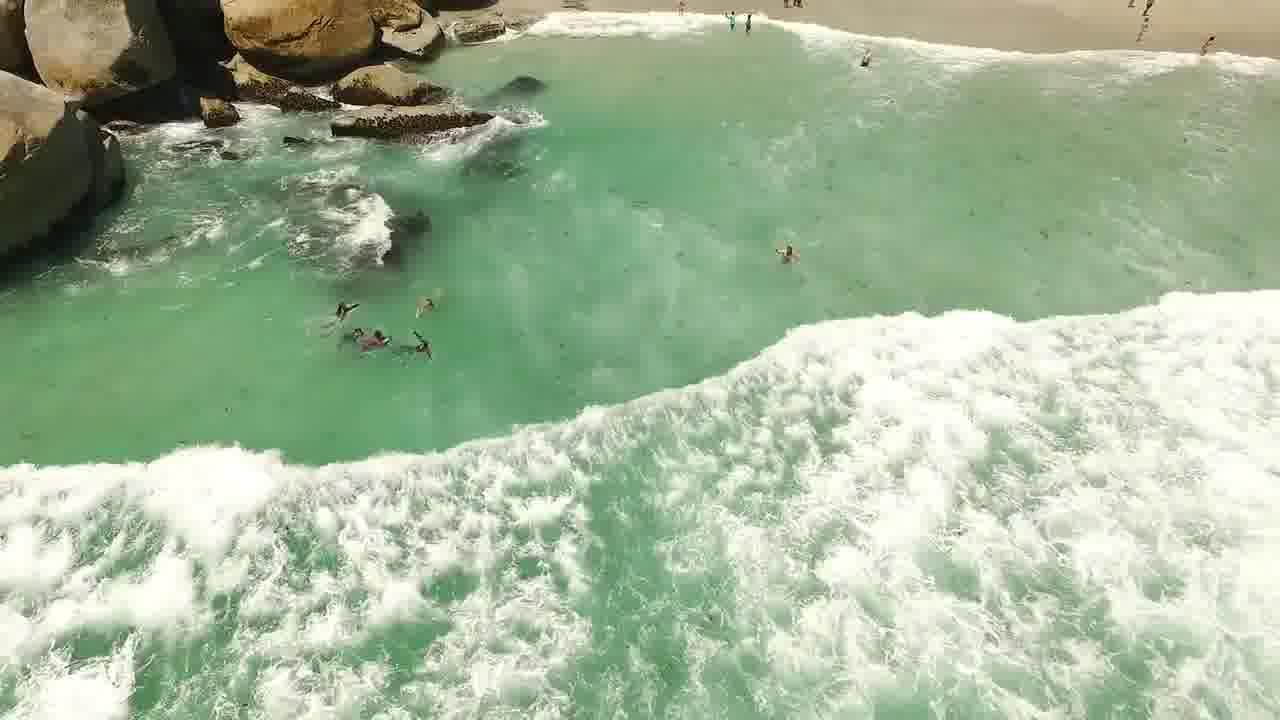human: (397, 327, 443, 367), (319, 303, 363, 341), (764, 237, 812, 269), (412, 286, 451, 318), (359, 328, 400, 357)
